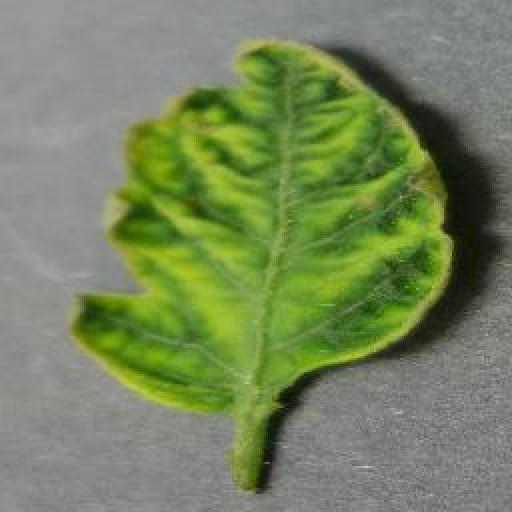disease_tomato: (68, 38, 456, 410)
